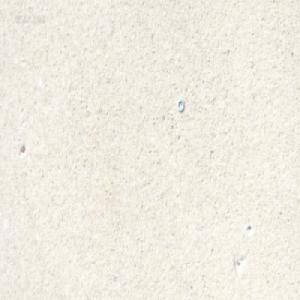Washer: (176, 98, 184, 112)
